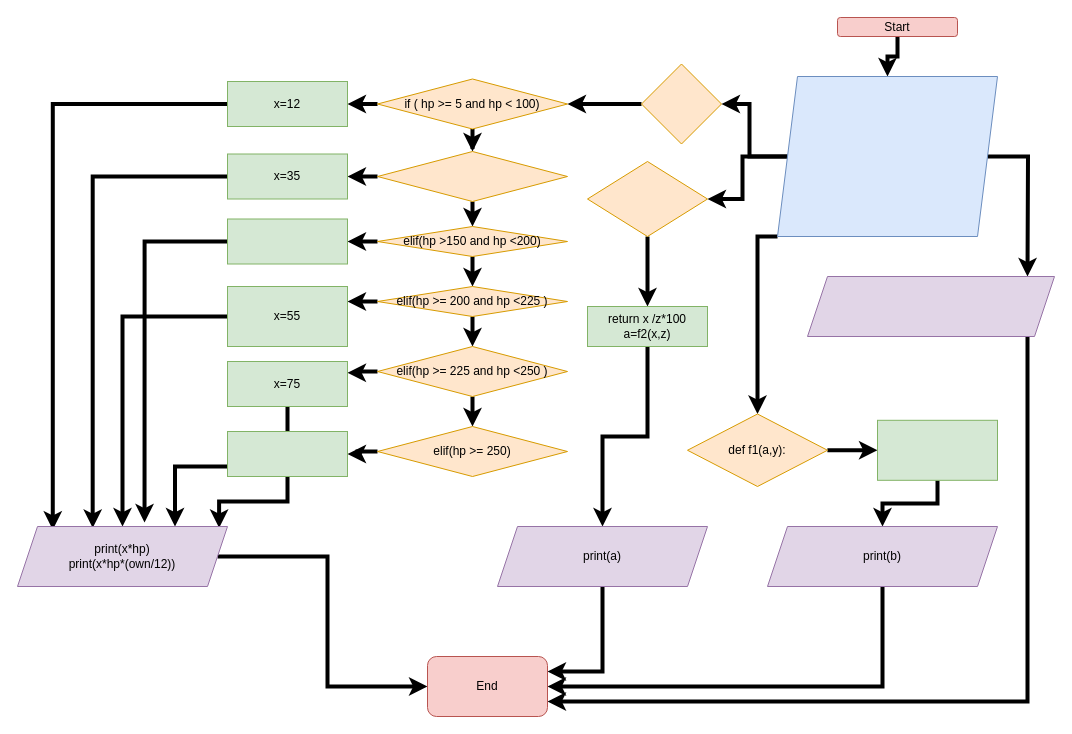
Some shapes in this 1072 by 734 pixel diagram are drawn without their labels. The shapes that lost their labels are listed below. From the top down, each one's centre as x and y in pixels, then its label:
the point at 681,103: def tax(x)
the point at 472,176: elif ( hp >= 100 and hp < 150)
the point at 887,156: name= Surname= region= car= year= hp= own= x= y= z=
the point at 647,198: def f2(x,z)
the point at 287,241: x=45
the point at 930,306: print(name,surname,region,car,year,hp
the point at 287,453: x=150
the point at 937,449: return(((a*y)/100)) b=f1(a,y) f1(a,y)
